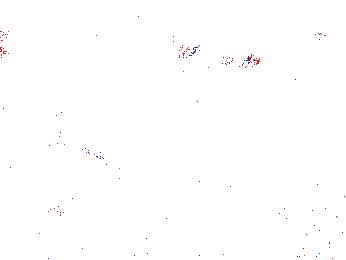glassfish: (41, 130, 142, 189)
red belly glassfish: (312, 28, 346, 42)
redtail glassfish: (175, 37, 258, 77)
